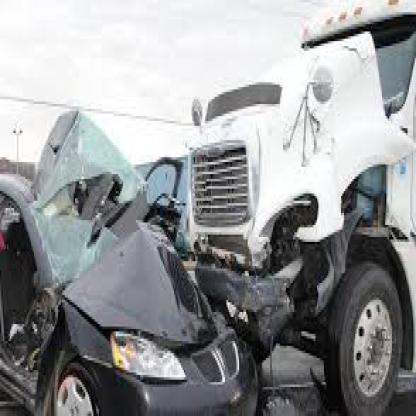accident: (3, 59, 379, 406)
